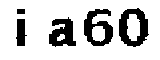0: (117, 6, 151, 53)
6: (82, 6, 115, 50)
a: (45, 14, 78, 49)
i: (16, 7, 33, 57)
